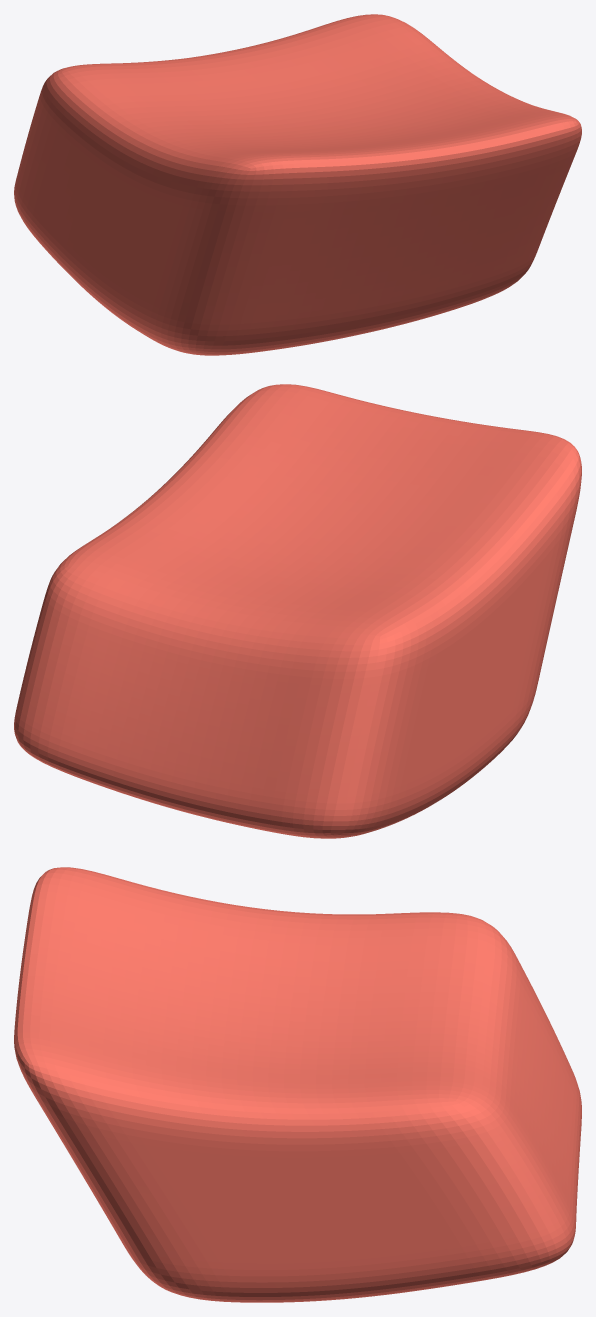
3 views of the same model, one above another, from view 1: azimuth 30°, elevation 25°; view 2: azimuth 150°, elevation 25°; view 3: azimuth 270°, elevation 25° (orthographic). The views are drawn at different scales.
Visible parts, largest first — view 1: waves_1.038; view 2: waves_1.038; view 3: waves_1.038.
Boxes of the visible parts, x1,y1,x2,y2 form: waves_1.038: [14, 14, 581, 355]; waves_1.038: [14, 384, 581, 838]; waves_1.038: [14, 867, 581, 1302].
Bounding box in the file's own units: 30.12 × 21.2 × 37.46.
